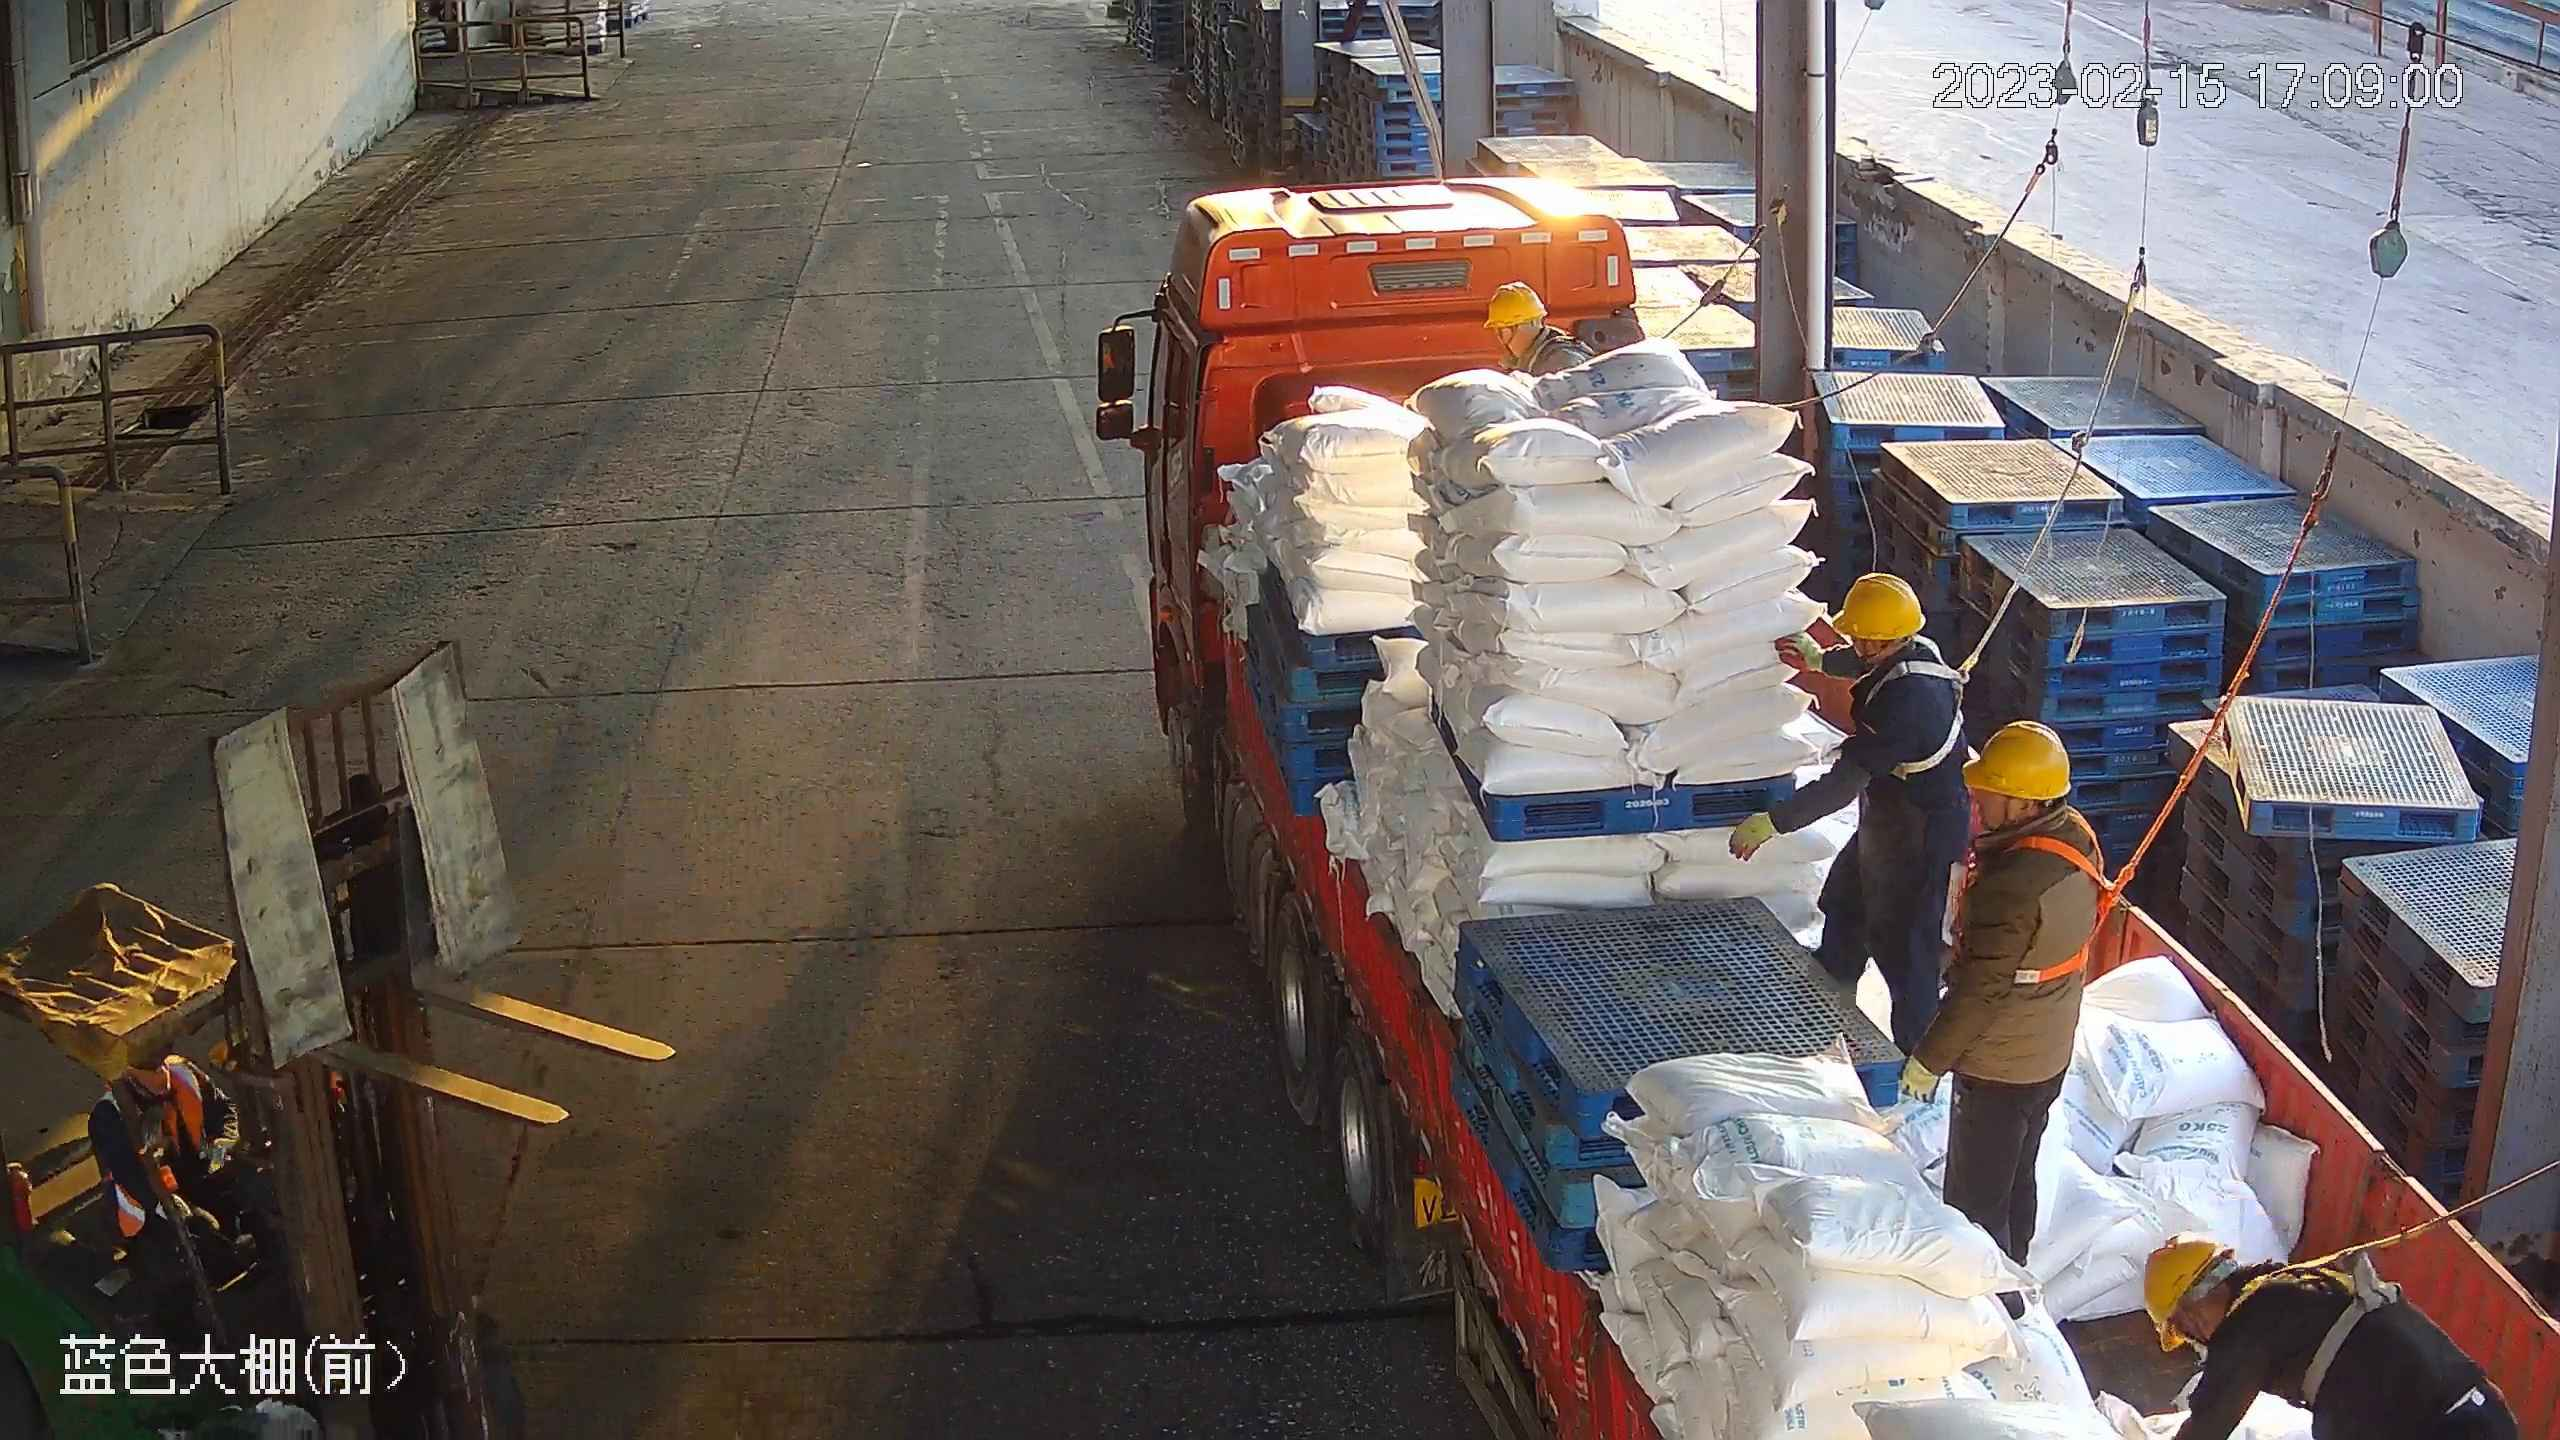belt: (2238, 1249, 2407, 1390), (2007, 834, 2131, 991), (1858, 664, 1972, 773)
head: (2146, 1243, 2346, 1440), (1936, 725, 2103, 897), (1785, 566, 1946, 721), (96, 1062, 231, 1145), (1483, 273, 1588, 377)
helmet: (1957, 717, 2086, 806), (2138, 1238, 2214, 1347), (1838, 567, 1933, 647), (1481, 277, 1553, 338)
people: (1933, 721, 2088, 1301), (1780, 573, 1956, 1074), (94, 1051, 236, 1264)
truck: (1107, 156, 2560, 1440)
